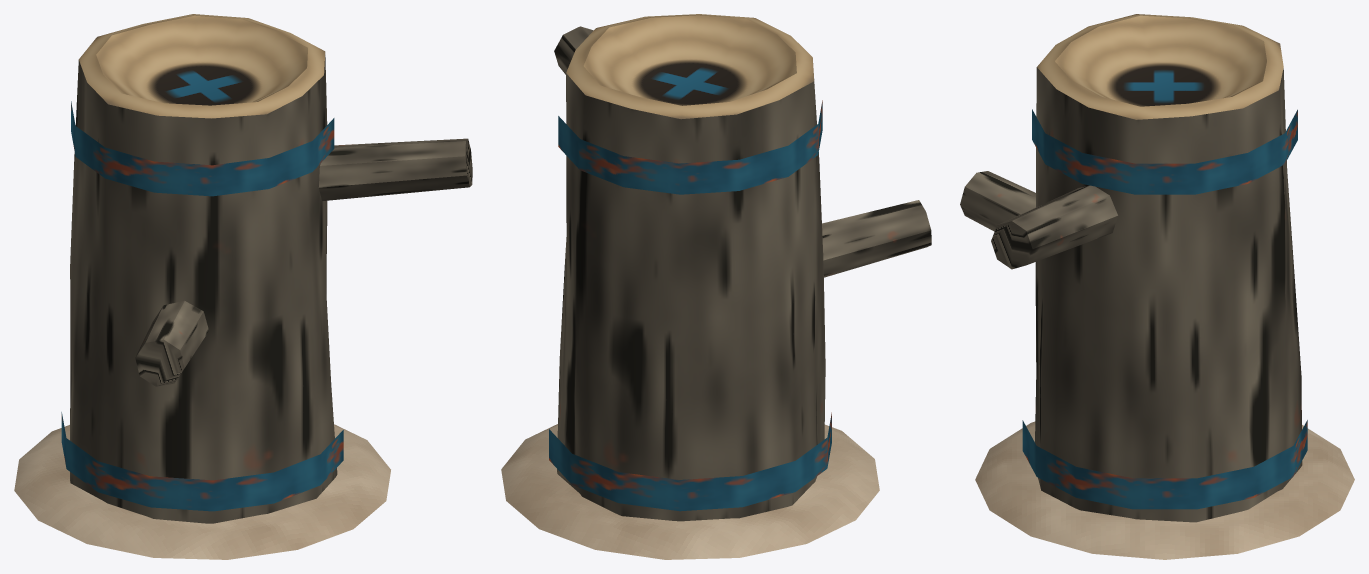
File: log.glb
3 renders of one model, left to right at view 1: azimuth 30°, elevation 25°; view 2: azimuth 150°, elevation 25°; view 3: azimuth 270°, elevation 25°, orthographic.
Visible parts, largest first — view 1: Target, Base; view 2: Target, Base; view 3: Target, Base.
Part boxes in pixels (left/top/right/bottom): Target: left=61, top=14, right=472, bottom=523; Base: left=14, top=424, right=390, bottom=559; Target: left=549, top=14, right=931, bottom=521; Base: left=501, top=424, right=879, bottom=559; Target: left=960, top=14, right=1307, bottom=522; Base: left=975, top=421, right=1354, bottom=559.
Bounding box in the file's own units: 0.8018 × 0.875 × 0.7486.
Materials: 4 (4 with a texture image).
